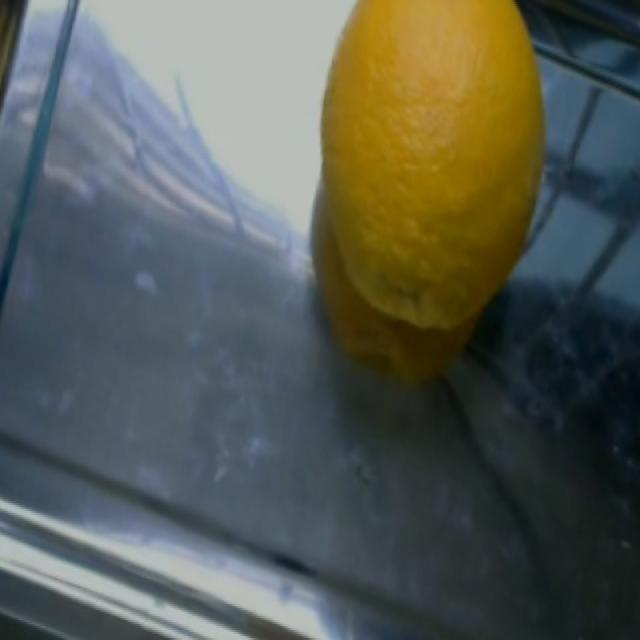Fruit: (296, 0, 572, 237)
